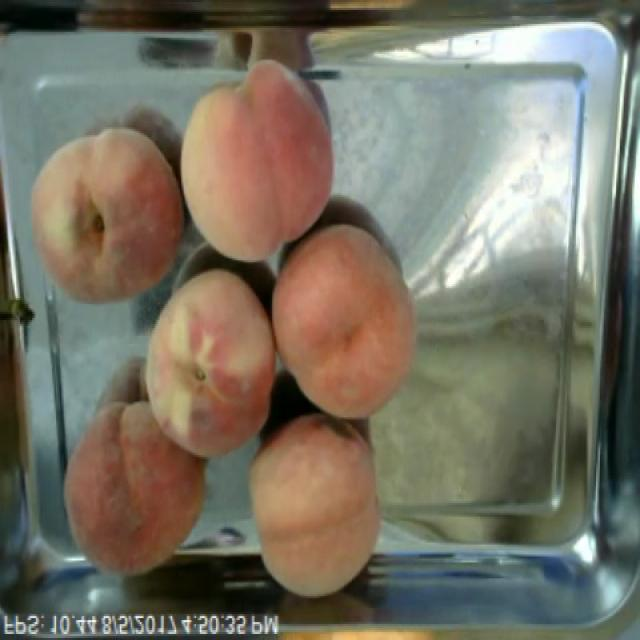Fruit: (162, 50, 346, 272), (11, 111, 198, 318), (52, 388, 222, 590), (274, 213, 428, 427), (130, 258, 280, 472), (236, 409, 392, 606)
